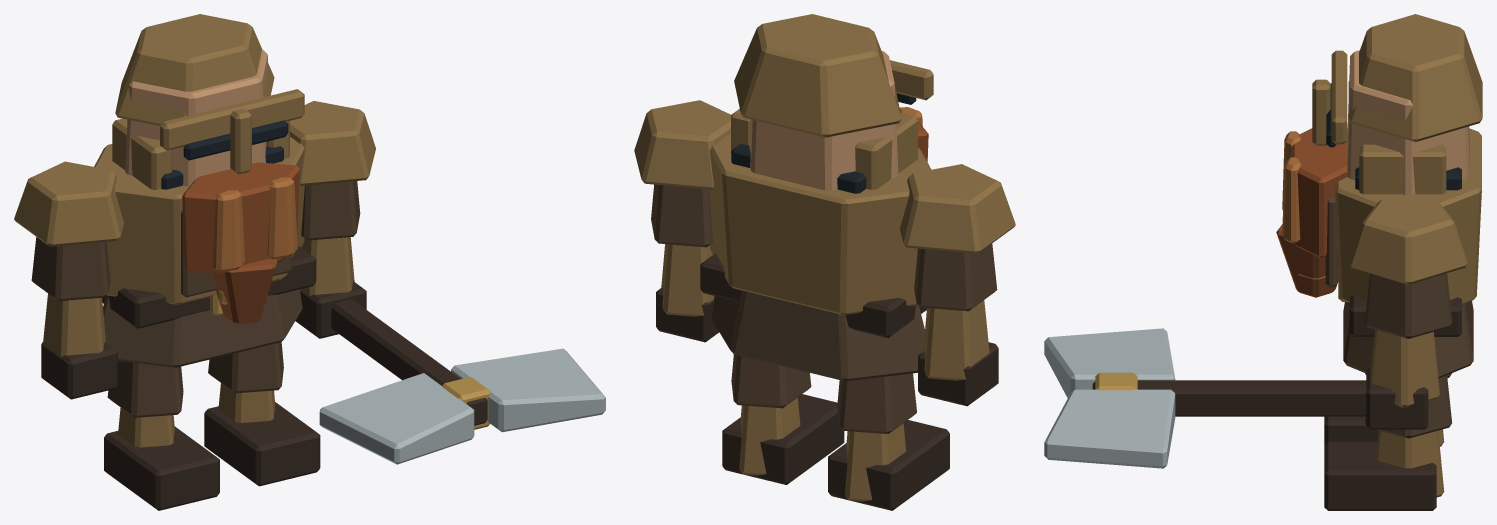
File: guardian.glb
3 renders of one model, left to right at view 1: azimuth 30°, elevation 25°; view 2: azimuth 150°, elevation 25°; view 3: azimuth 270°, elevation 25°, orthographic. The views are drawn at different scales.
Visible parts, largest first — view 1: head.001, weapon.001, pelvis.001, upper_arm_l.001, beard_upper, torso.001, upper_arm_r.001, shin_r.001, shin_l.001, forearm_l.001, forearm_r.001, thigh_l.001 (+2 smaller); view 2: head.001, torso.001, pelvis.001, upper_arm_l.001, upper_arm_r.001, shin_l.001, shin_r.001, forearm_l.001, forearm_r.001, thigh_l.001, thigh_r.001, beard_upper; view 3: head.001, weapon.001, upper_arm_r.001, shin_r.001, torso.001, forearm_r.001, beard_upper, pelvis.001, beard_tip, shin_l.001, thigh_r.001.
Boxes of the visible parts, x1,y1,x2,y2 form: head.001: (112,14,304,189); weapon.001: (319,299,605,464); pelvis.001: (102,246,316,367); upper_arm_l.001: (14,161,123,301); beard_upper: (182,162,299,274); torso.001: (94,137,304,304); upper_arm_r.001: (290,101,375,240); shin_r.001: (204,383,320,486); shin_l.001: (104,408,219,510); forearm_l.001: (41,293,117,399); forearm_r.001: (295,237,366,338); thigh_l.001: (107,361,183,417); head.001: (731,14,933,190); torso.001: (709,133,931,314); pelvis.001: (700,253,926,381); upper_arm_l.001: (900,164,1015,311); upper_arm_r.001: (634,100,730,247); shin_l.001: (828,420,949,510); shin_r.001: (722,394,844,484); forearm_l.001: (918,300,998,406); forearm_r.001: (656,244,718,342); thigh_l.001: (837,373,916,433); thigh_r.001: (731,354,811,408); beard_upper: (899,107,928,161); head.001: (1312,14,1482,195); weapon.001: (1044,328,1366,468); upper_arm_r.001: (1349,199,1467,338); shin_r.001: (1324,430,1444,510); torso.001: (1325,128,1481,304); forearm_r.001: (1366,329,1439,429); beard_upper: (1282,128,1347,258); pelvis.001: (1338,271,1473,378); beard_tip: (1276,224,1338,297); shin_l.001: (1324,416,1444,446); thigh_r.001: (1365,375,1451,438).
Bounding box in the file's own units: 1.74 × 1.7 × 1.56.
